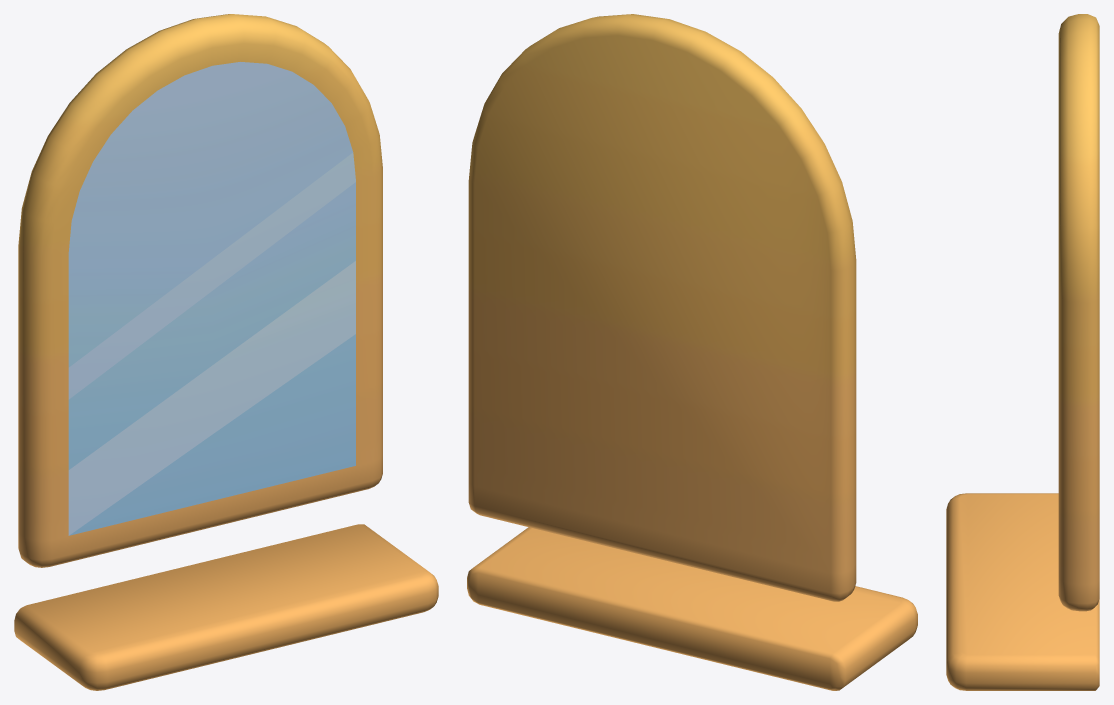
File: Bath_Mirror_06.glb
The picture shows the model from 3 angles, left to right: view 1: azimuth 30°, elevation 25°; view 2: azimuth 150°, elevation 25°; view 3: azimuth 270°, elevation 25°; orthographic projection. The views are drawn at different scales.
Parts seen in each view (by area): view 1: Bath_Mirror_06; view 2: Bath_Mirror_06; view 3: Bath_Mirror_06.
Part boxes in pixels (box(x1,y1,x2,y2)): Bath_Mirror_06: box(14, 14, 438, 690); Bath_Mirror_06: box(467, 14, 917, 690); Bath_Mirror_06: box(946, 14, 1099, 690).
Size of the model in its own units: 0.5118 by 0.7989 by 0.1923.
Materials: 1 (1 with a texture image).
